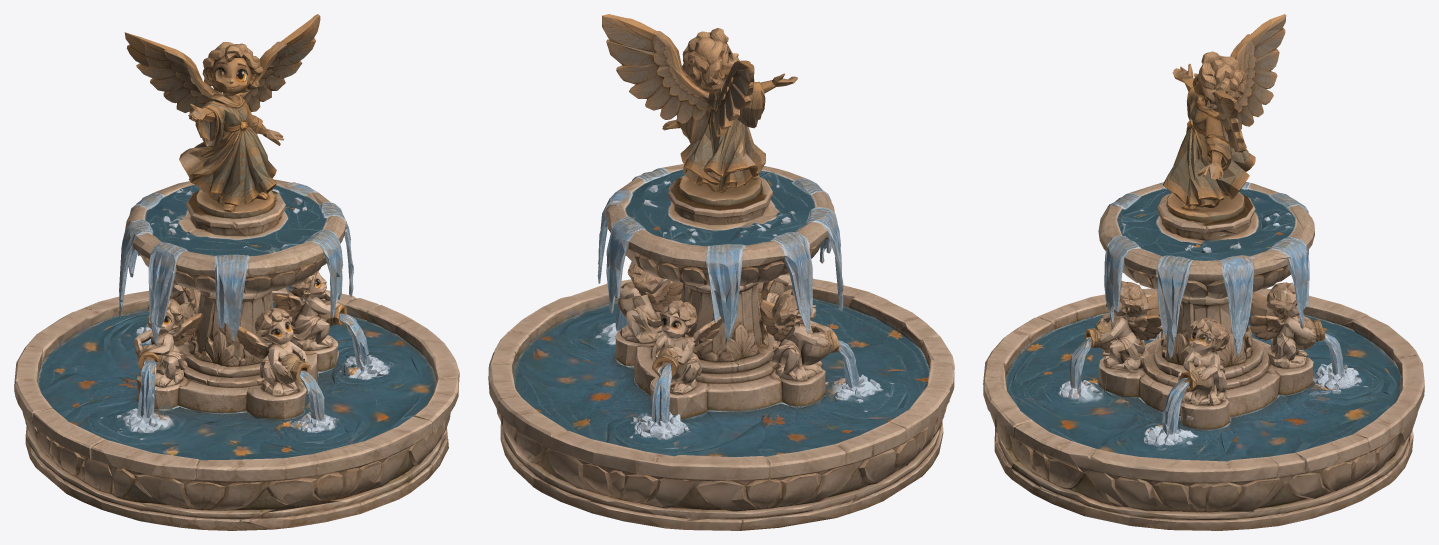
File: bethesda-fountain.glb
3 renders of one model, left to right at view 1: azimuth 30°, elevation 25°; view 2: azimuth 150°, elevation 25°; view 3: azimuth 270°, elevation 25°, orthographic. The views are drawn at different scales.
Size of the model in its own units: 7.99 by 7.88 by 8.
Materials: 1 (1 with a texture image).
